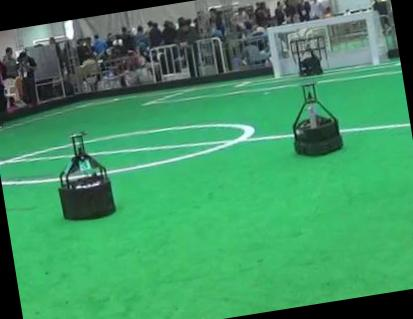goal: (364, 11, 379, 63), (268, 28, 280, 77)
robot: (59, 132, 114, 218), (292, 83, 341, 154), (290, 36, 327, 75)
